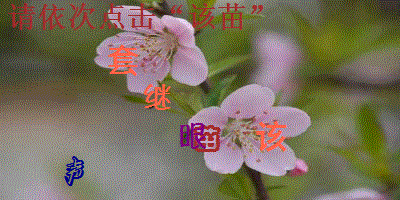result: (187, 1, 248, 33)
text: (255, 119, 291, 155), (104, 44, 142, 78), (142, 83, 173, 112), (177, 121, 207, 150), (192, 124, 222, 153), (62, 156, 85, 187)
